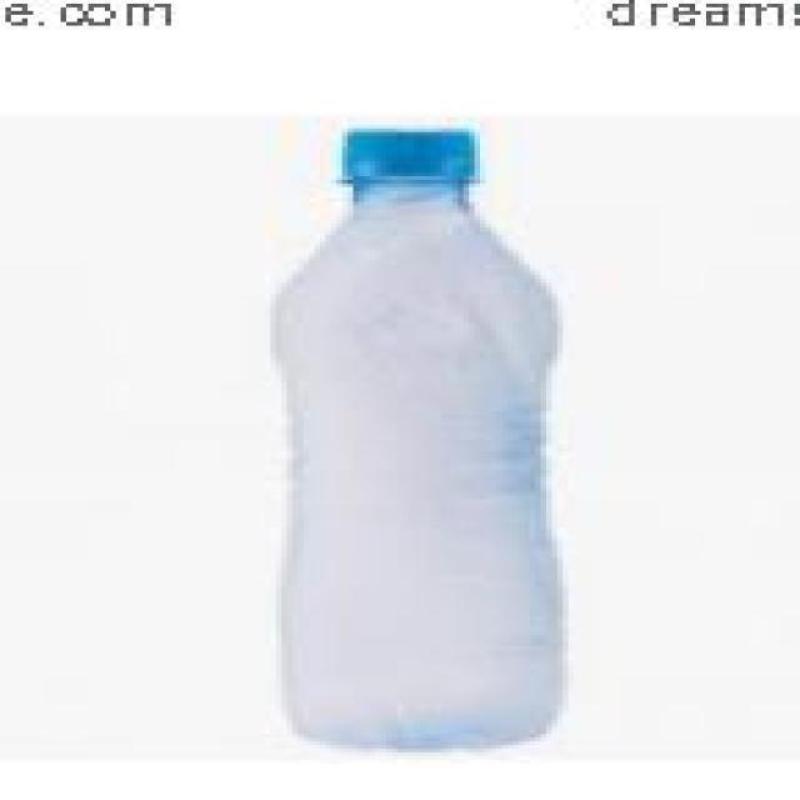botella: (272, 133, 572, 748)
